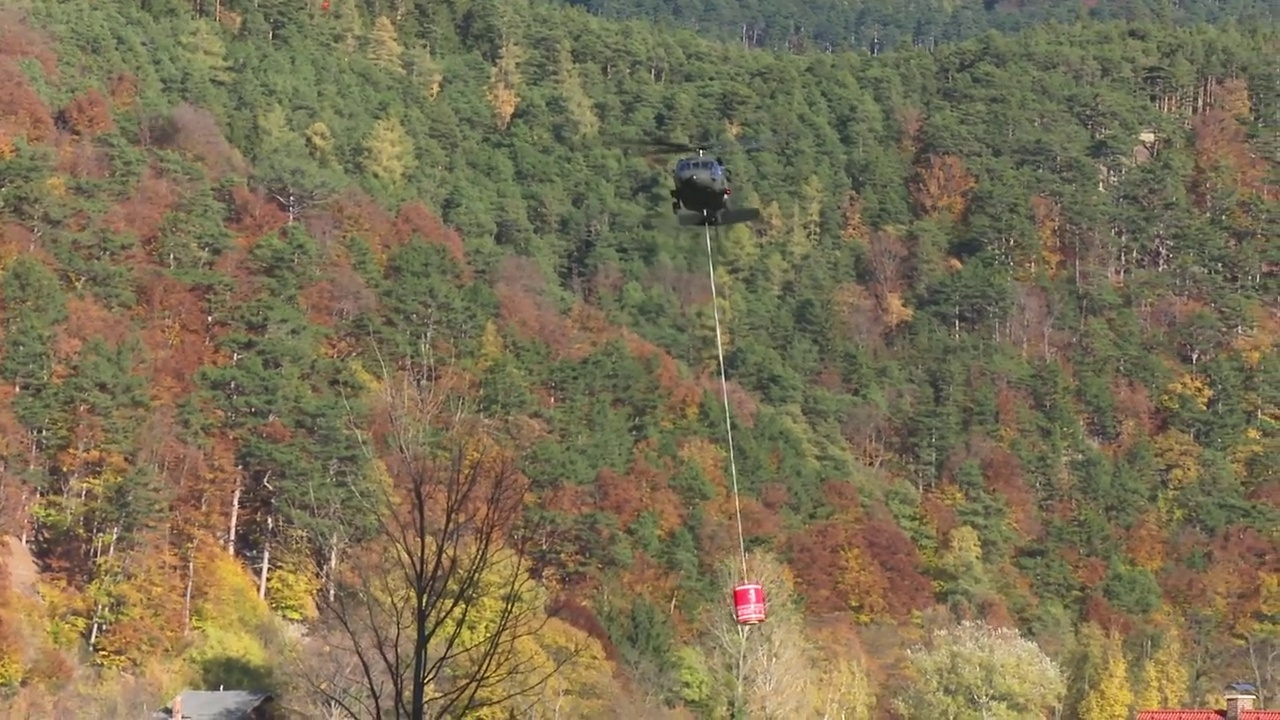heli: (632, 133, 762, 226)
